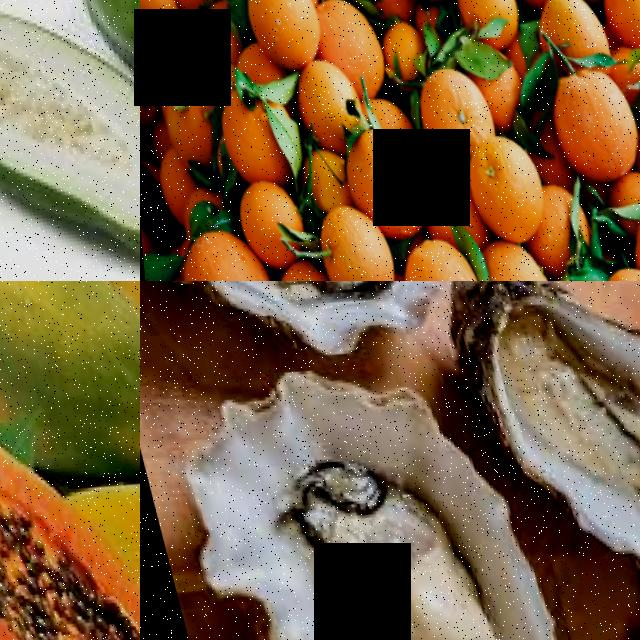orange: (538, 48, 640, 178), (455, 123, 548, 237), (352, 112, 433, 240), (407, 50, 498, 148), (307, 192, 398, 281), (163, 215, 283, 281), (285, 46, 364, 143), (231, 171, 309, 262), (214, 90, 281, 183), (386, 220, 484, 281), (315, 0, 386, 79), (243, 0, 325, 65), (529, 0, 609, 61), (472, 225, 551, 281), (144, 7, 198, 71), (449, 0, 525, 44), (260, 244, 345, 281), (618, 182, 640, 273), (594, 0, 640, 37), (140, 37, 158, 126)
oysters: (174, 340, 548, 640), (453, 281, 640, 598), (140, 281, 468, 382)
pawpaw: (0, 326, 140, 640), (0, 0, 140, 281), (0, 281, 140, 430), (54, 0, 140, 213)
